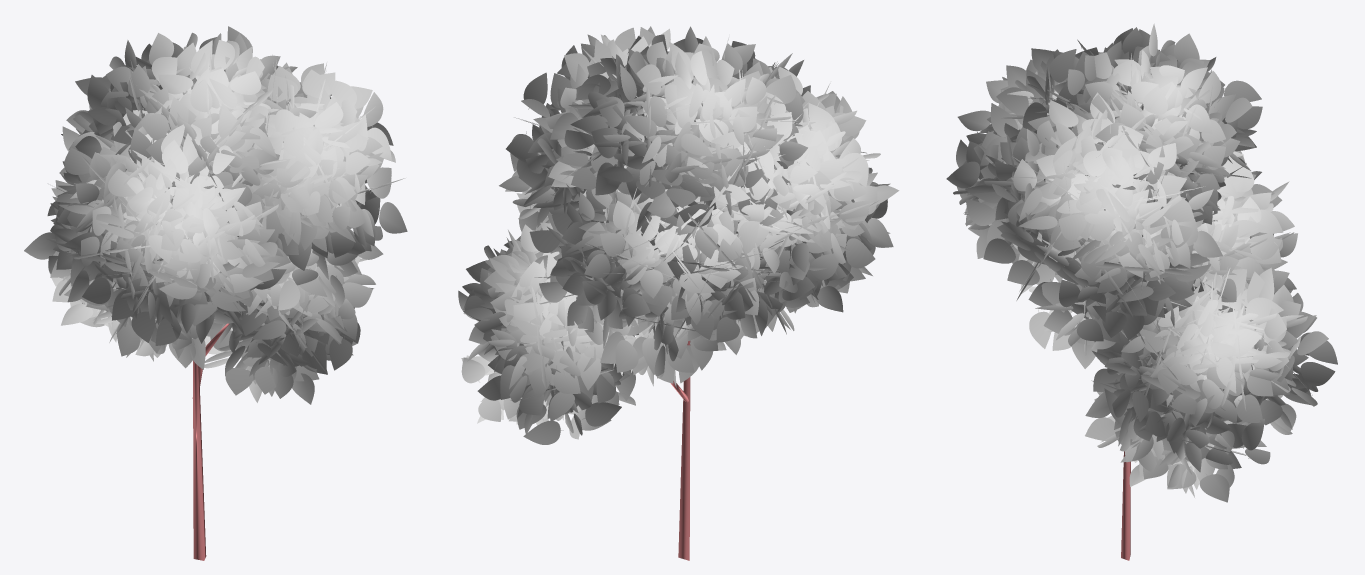
Rendered from Drzewko2_LOD1.fbx.
3 views of the same model, side by side, from view 1: azimuth 30°, elevation 25°; view 2: azimuth 150°, elevation 25°; view 3: azimuth 270°, elevation 25° (orthographic).
Parts seen in each view (by area): view 1: Leaf.002, tree.002; view 2: Leaf.002, tree.002; view 3: Leaf.002, tree.002.
Boxes of the visible parts, x1=… form: Leaf.002: x1=24, y1=26, x2=407, y2=404; tree.002: x1=192, y1=323, x2=229, y2=560; Leaf.002: x1=458, y1=26, x2=899, y2=444; tree.002: x1=670, y1=341, x2=690, y2=560; Leaf.002: x1=946, y1=23, x2=1337, y2=502; tree.002: x1=1121, y1=451, x2=1130, y2=560.
Size of the model in its own units: 543 by 562 by 766.
